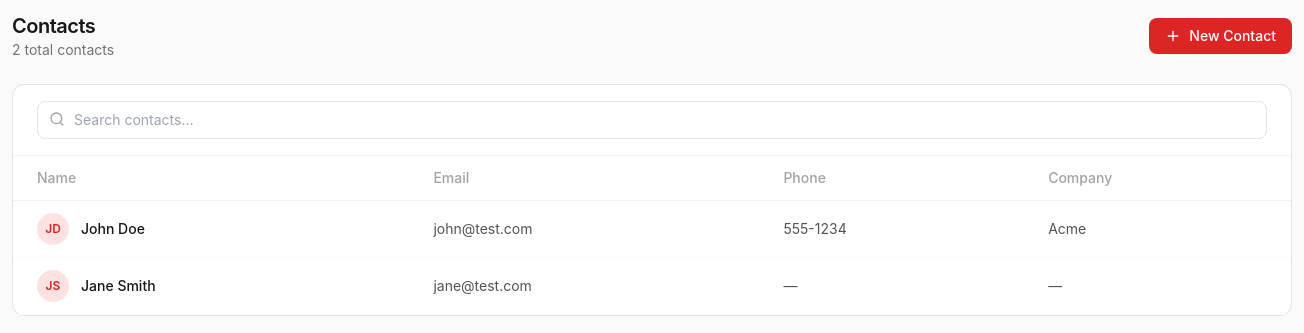
it: filters contacts by search
Check: the text "John Doe" is shown, box [81, 219, 145, 239]
Type "jane" into the field with placeholder "Search contacts…".
click(652, 120); type("jane")  # box [37, 101, 1267, 139]
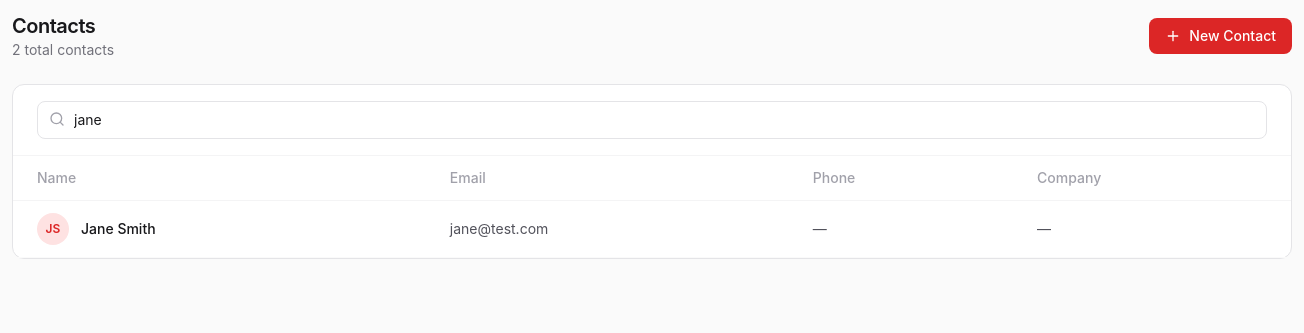
Check: the text "Jane Smith" is shown, box [81, 219, 156, 239]
Check: the text "John Doe" is gone
